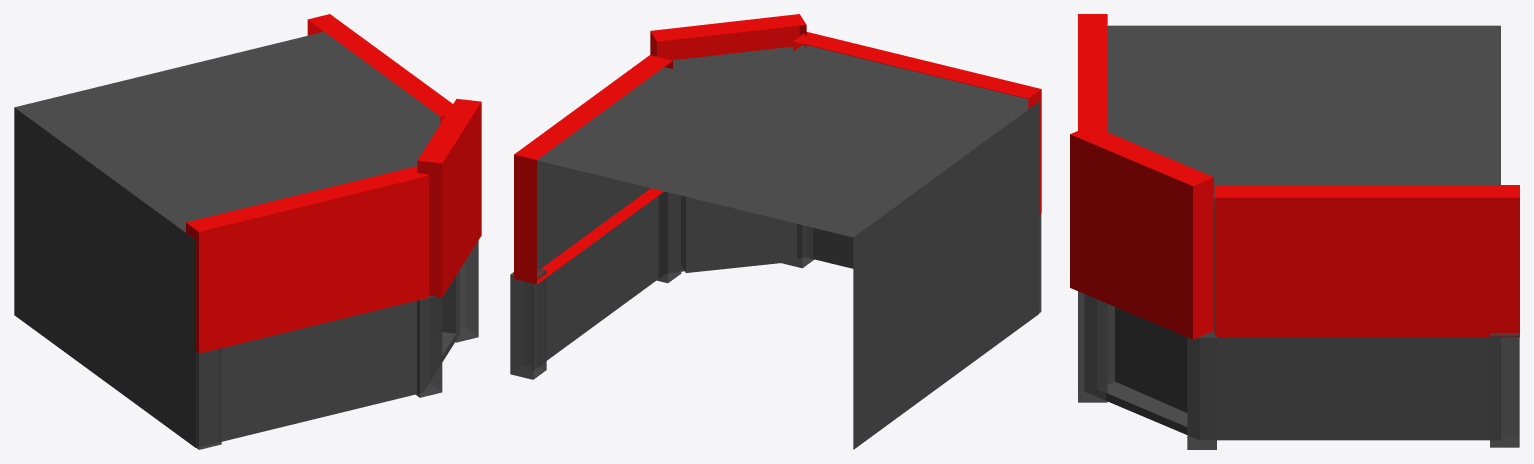
File: edificio 3.fbx
3 views of the same model, side by side, from view 1: azimuth 30°, elevation 25°; view 2: azimuth 150°, elevation 25°; view 3: azimuth 270°, elevation 25° (orthographic). The views are drawn at different scales.
Parts seen in each view (by area): view 1: BASE, FrenteIzquierdo, Arriba, FrenteMedio, Derecho; view 2: BASE, Derecho, FrenteMedio, Arriba, FrenteIzquierdo; view 3: BASE, Derecho, Arriba, FrenteMedio, FrenteIzquierdo.
Part boxes in pixels (x1,y1,x2,y2): BASE: [14, 32, 459, 447]; FrenteIzquierdo: [186, 166, 428, 353]; Arriba: [417, 99, 481, 296]; FrenteMedio: [196, 240, 478, 449]; Derecho: [307, 14, 452, 123]; BASE: [532, 45, 1038, 449]; Derecho: [514, 55, 672, 284]; FrenteMedio: [510, 191, 1041, 379]; Arriba: [650, 14, 806, 60]; FrenteIzquierdo: [793, 32, 1041, 215]; BASE: [1084, 25, 1500, 440]; Derecho: [1214, 185, 1519, 337]; Arriba: [1070, 125, 1213, 339]; FrenteMedio: [1078, 291, 1519, 449]; FrenteIzquierdo: [1078, 14, 1107, 131].
Bounding box in the file's own units: 1483 × 989 × 1511.
